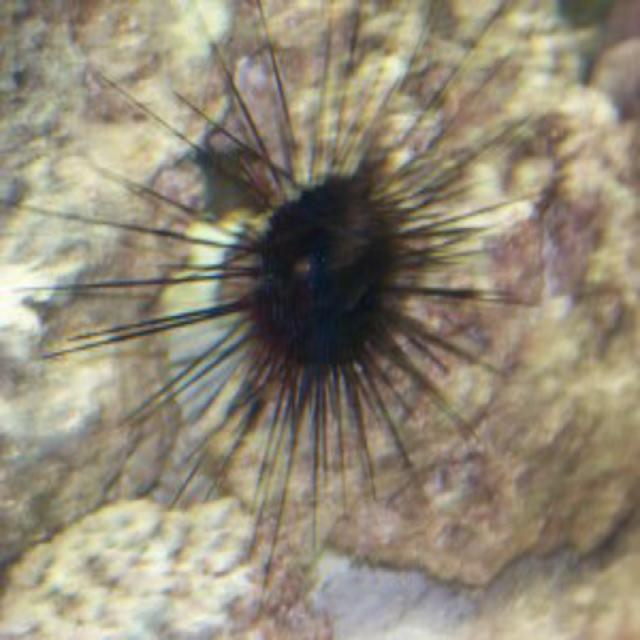Urchin: (21, 12, 560, 511)
